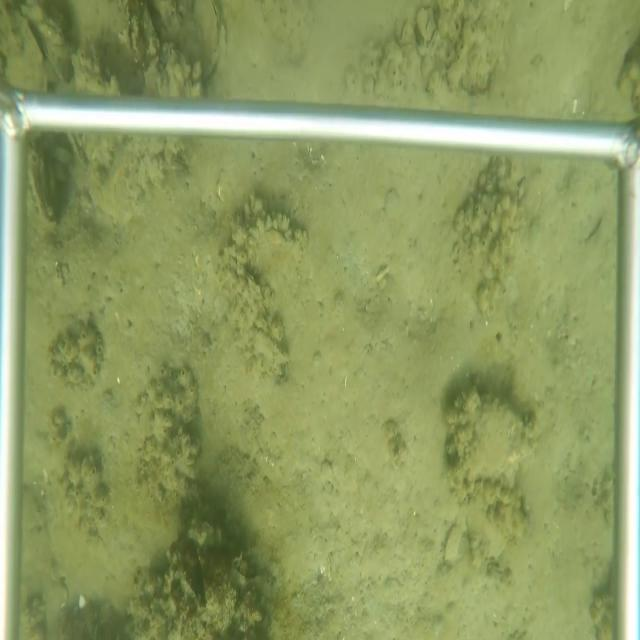Oyster-Closed: (447, 383, 526, 485), (28, 142, 61, 232)
